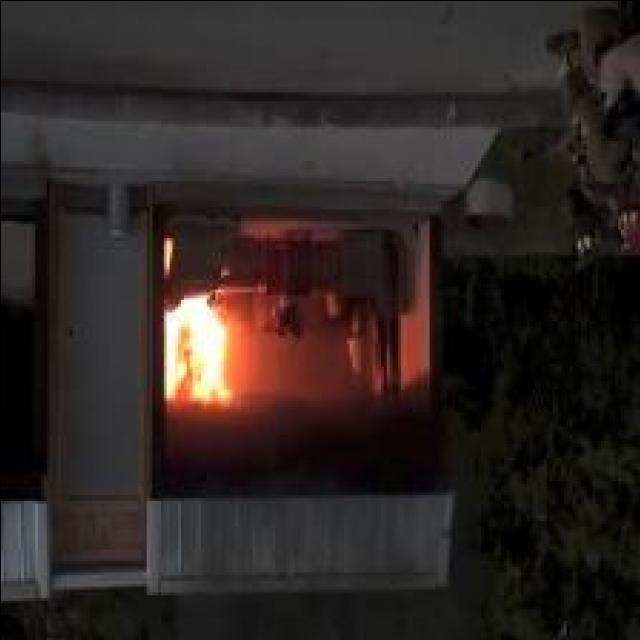Fire: (166, 294, 232, 402)
